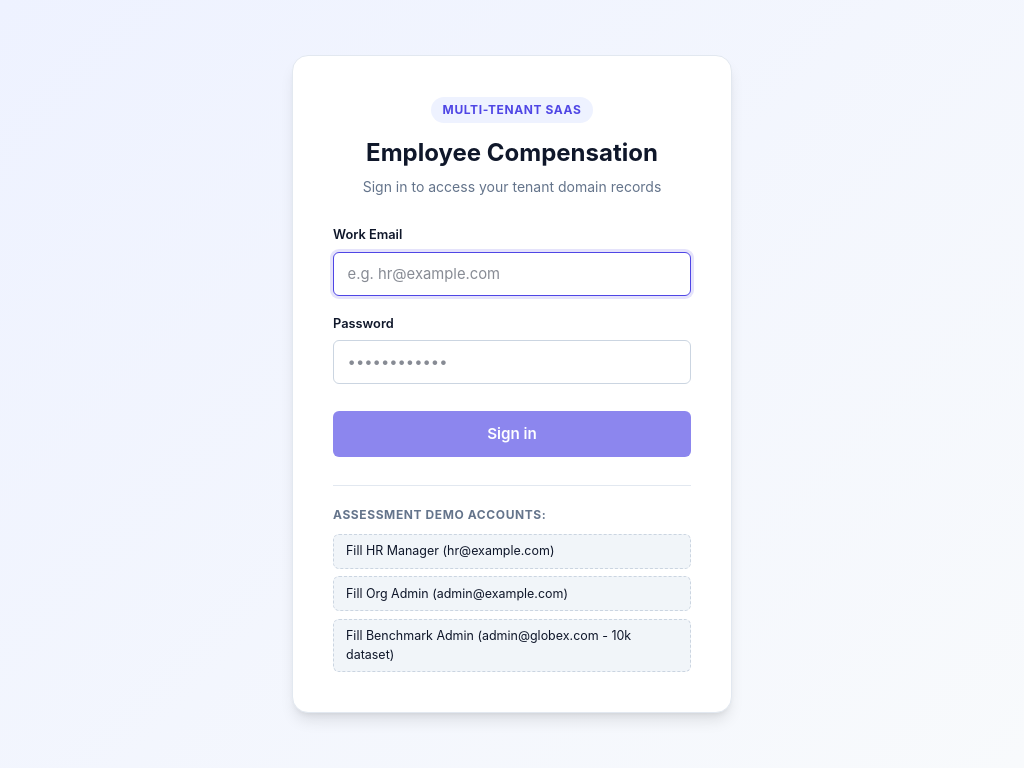
Test: LoginForm Component › displays error banner when authentication fails
Type "wrong@example.com" into the field labelled "Work Email". click: (512, 274)
box: [333,252,691,296]
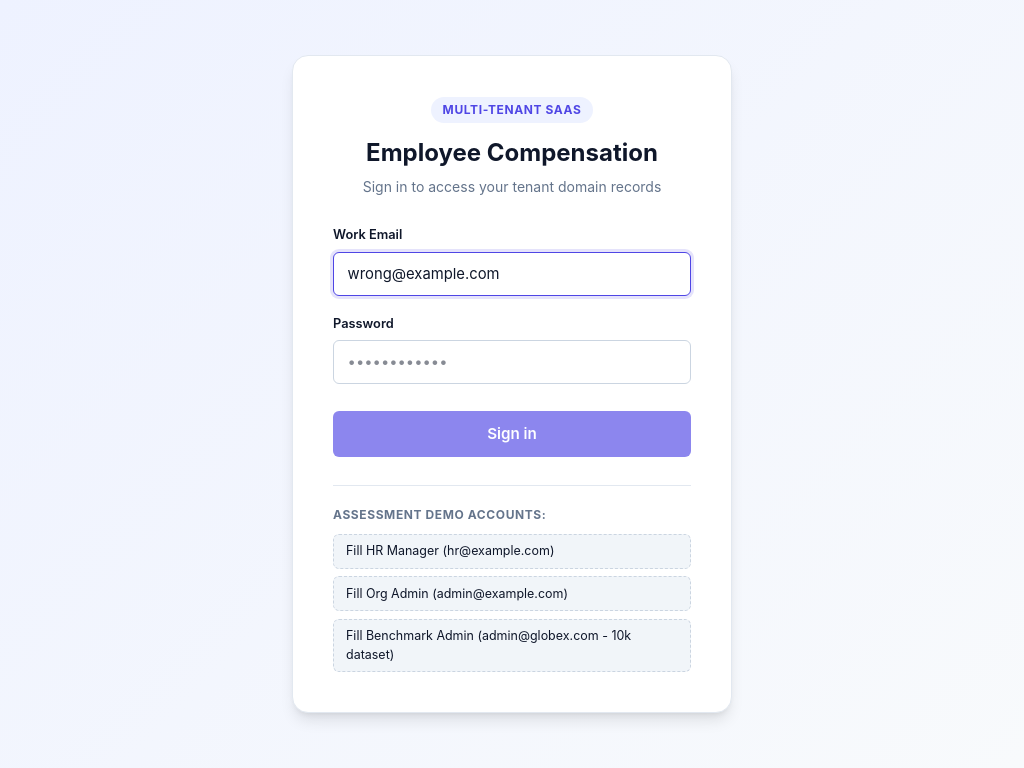
Type "wrongpass" into the password field labelled "Password". click: (512, 362)
box: [333,340,691,384]
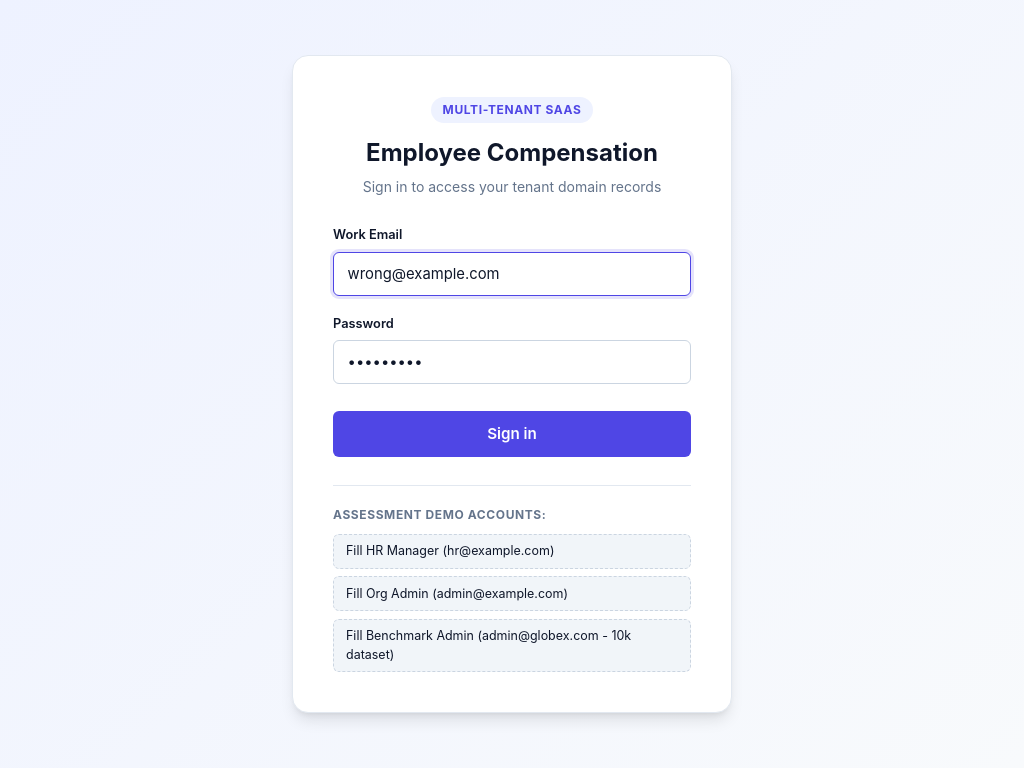
Click the button "Sign in". click: (512, 434)
box: [333,411,691,458]
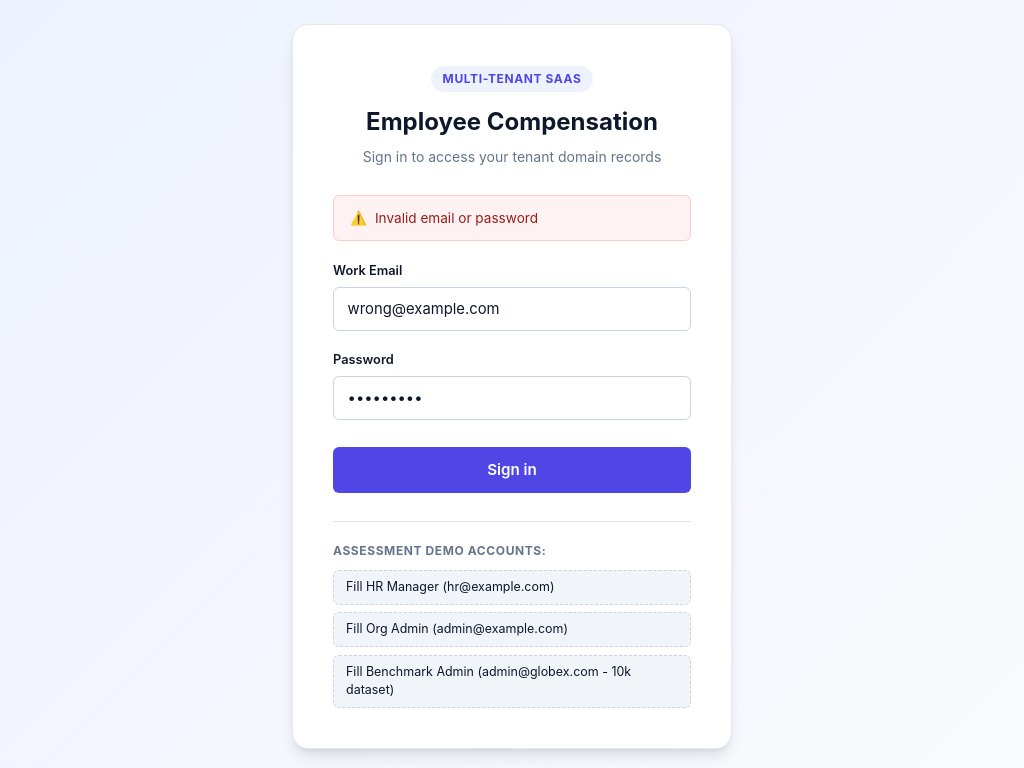
Expected: the message "⚠️ Invalid email or password" is shown, [333,195,691,241]
Expected: the text "Invalid email or password" is shown, [375,208,538,228]
